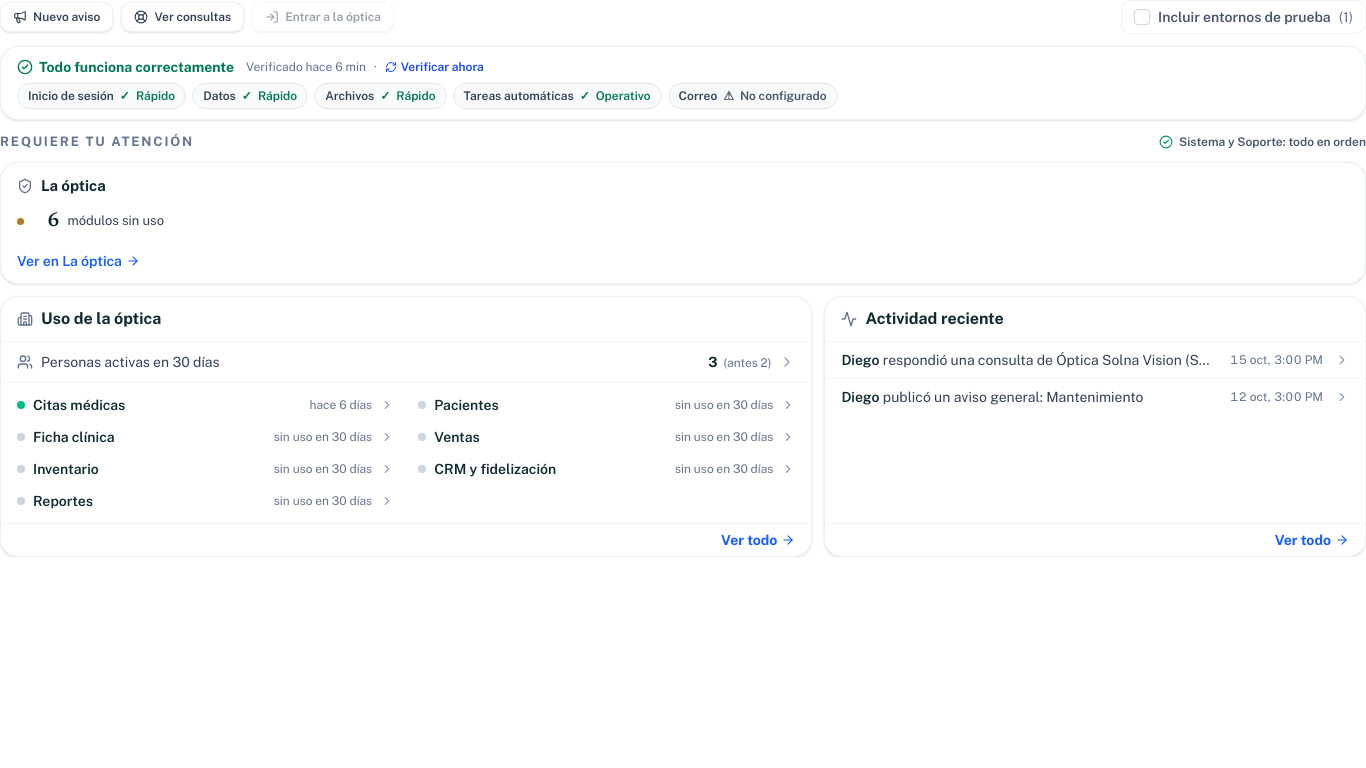
Inicio del superadmin: uso de la óptica y actividad reciente › con ayuda ya ofrecida (menos de 30 días) no vuelve el botón: dice cuándo se ofreció y cuándo se podrá volver
Click the button with aria-label "Ventas:" at (457, 437), box x1=410 y1=421 x2=803 y2=453
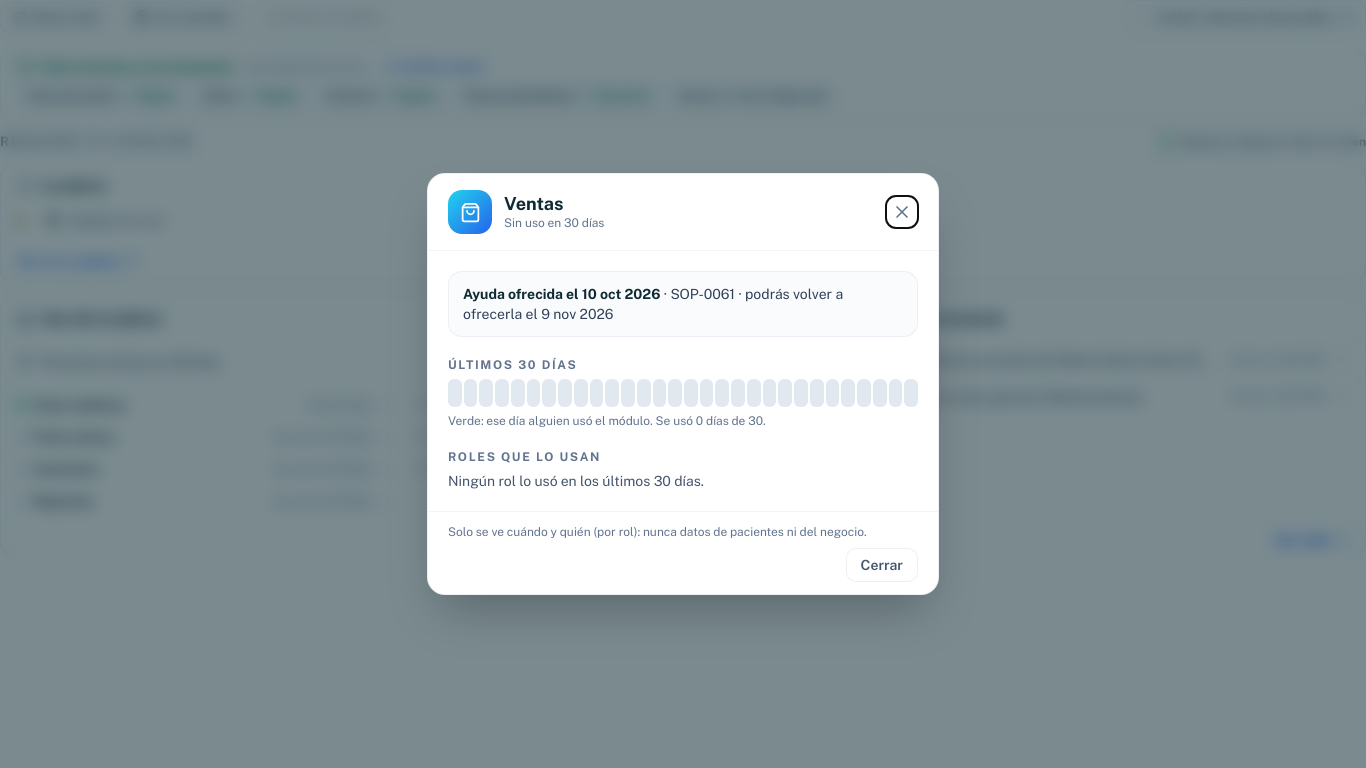
Expected: the element "Ayuda" shows "Ayuda ofrecida el 10 oct", x1=448 y1=271 x2=918 y2=337
Expected: the element "Ayuda" shows "SOP-0061", x1=660 y1=286 x2=735 y2=302
Expected: the element "Ayuda" shows "podrás volver a ofrecerla el 9 nov", x1=463 y1=286 x2=843 y2=322
